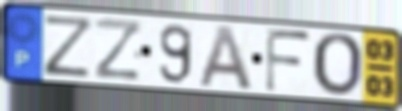9: (157, 22, 194, 85)
A: (196, 23, 256, 92)
F: (263, 25, 314, 95)
O: (309, 31, 366, 100)
Z: (42, 12, 97, 80), (93, 15, 144, 82)
